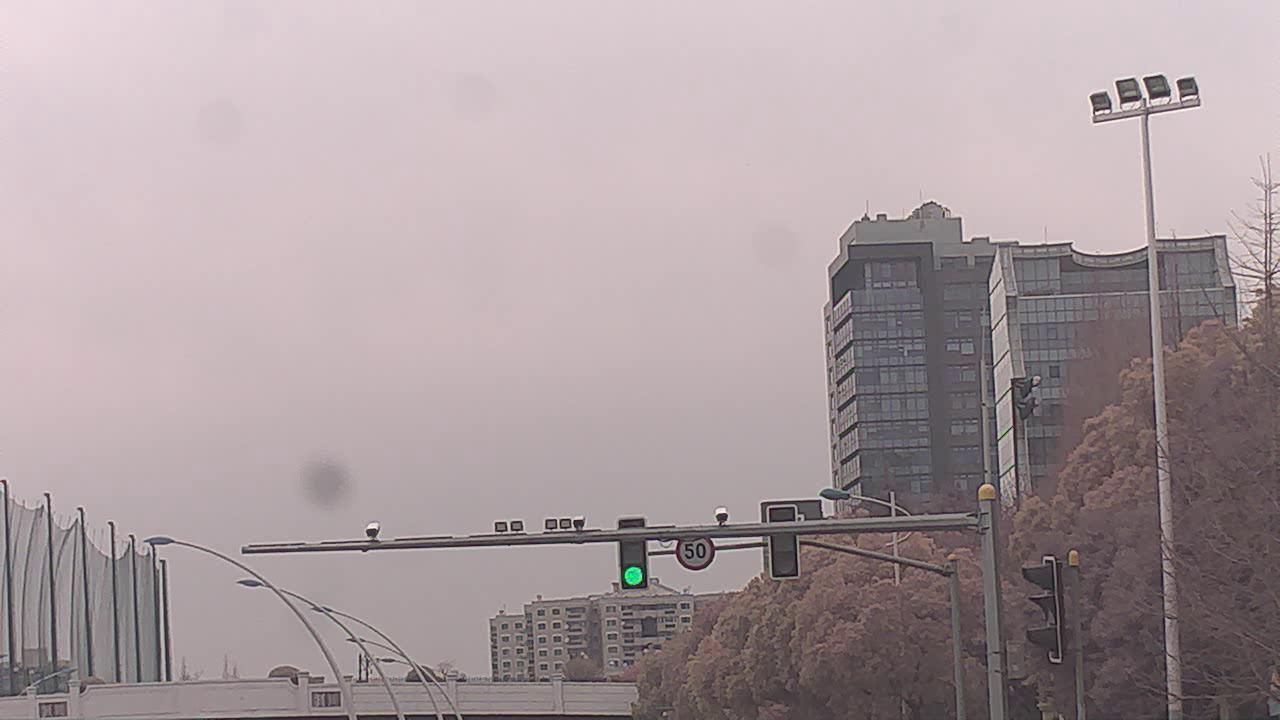traffic_light: (616, 520, 651, 597), (766, 508, 800, 584)
